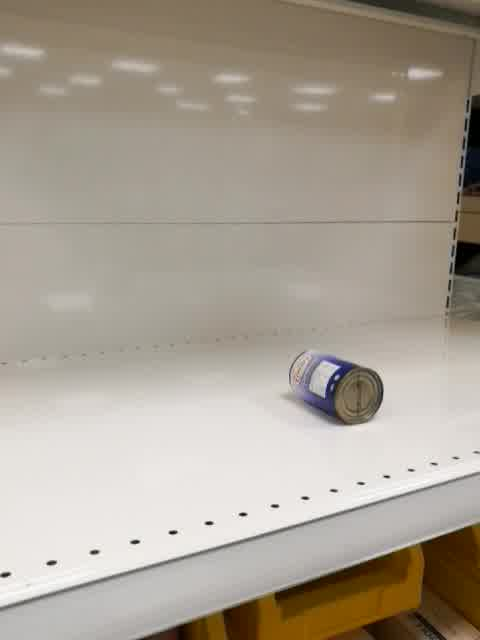sardine: (288, 349, 385, 426)
